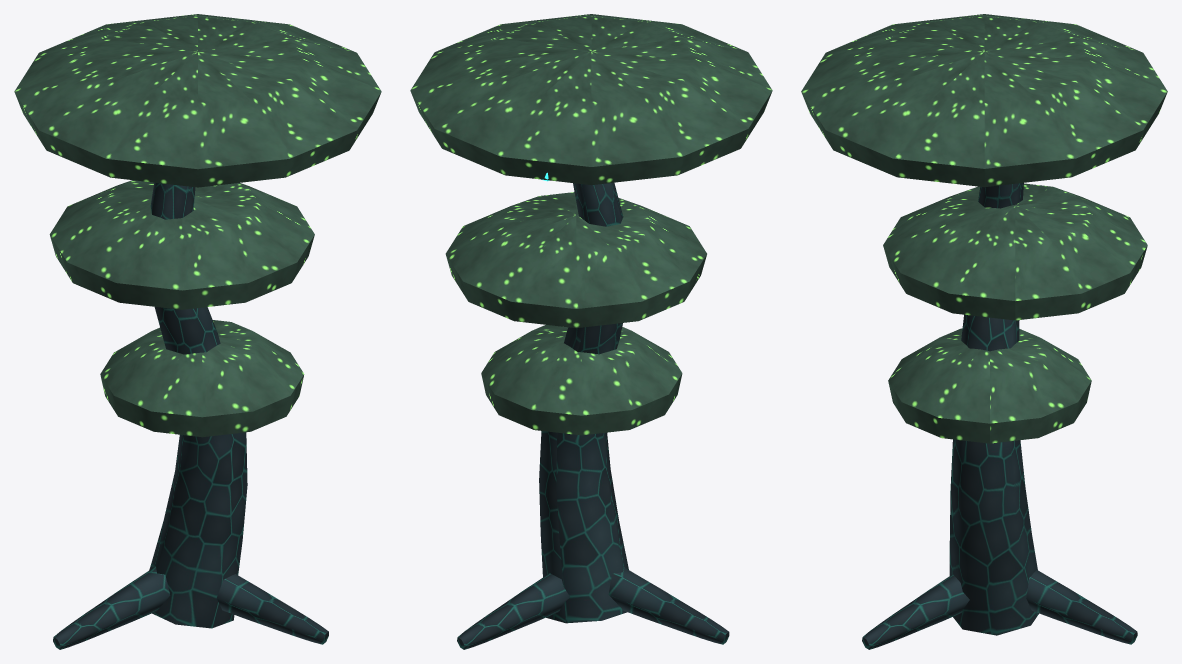
File: sf_tree.glb
3 renders of one model, left to right at view 1: azimuth 30°, elevation 25°; view 2: azimuth 150°, elevation 25°; view 3: azimuth 270°, elevation 25°, orthographic.
Visible parts, largest first — view 1: Base; view 2: Base; view 3: Base.
Boxes of the visible parts, bbox=[...] form: Base: bbox=[14, 14, 381, 649]; Base: bbox=[410, 14, 772, 649]; Base: bbox=[801, 14, 1167, 649].
Size of the model in its own units: 0.756 by 1.29 by 0.756.
3 materials, 3 textured.
